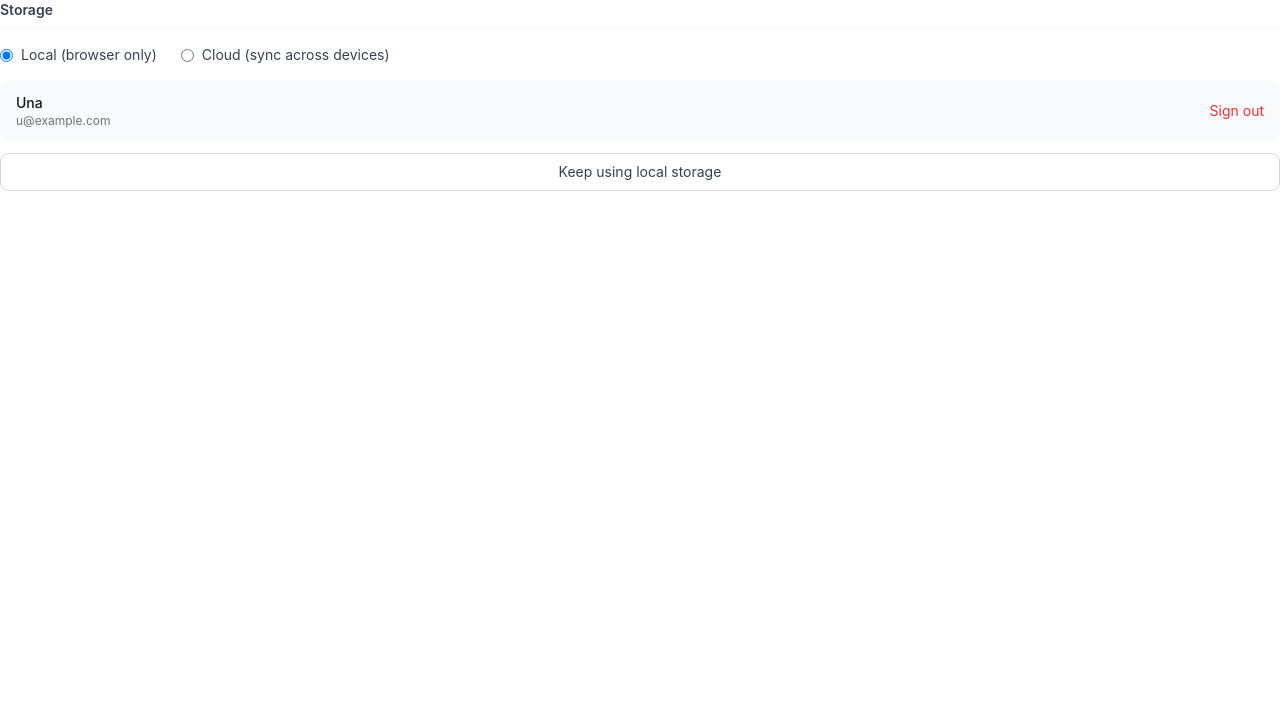
Test: the upload list (R-4) › recognition still counts every Local product: a ticked product sharing its origin with an unticked one is not taken for an earlier upload
Click the radio button labelled "Cloud (sync across devices)".
click(187, 55)  # box x1=181 y1=48 x2=194 y2=62
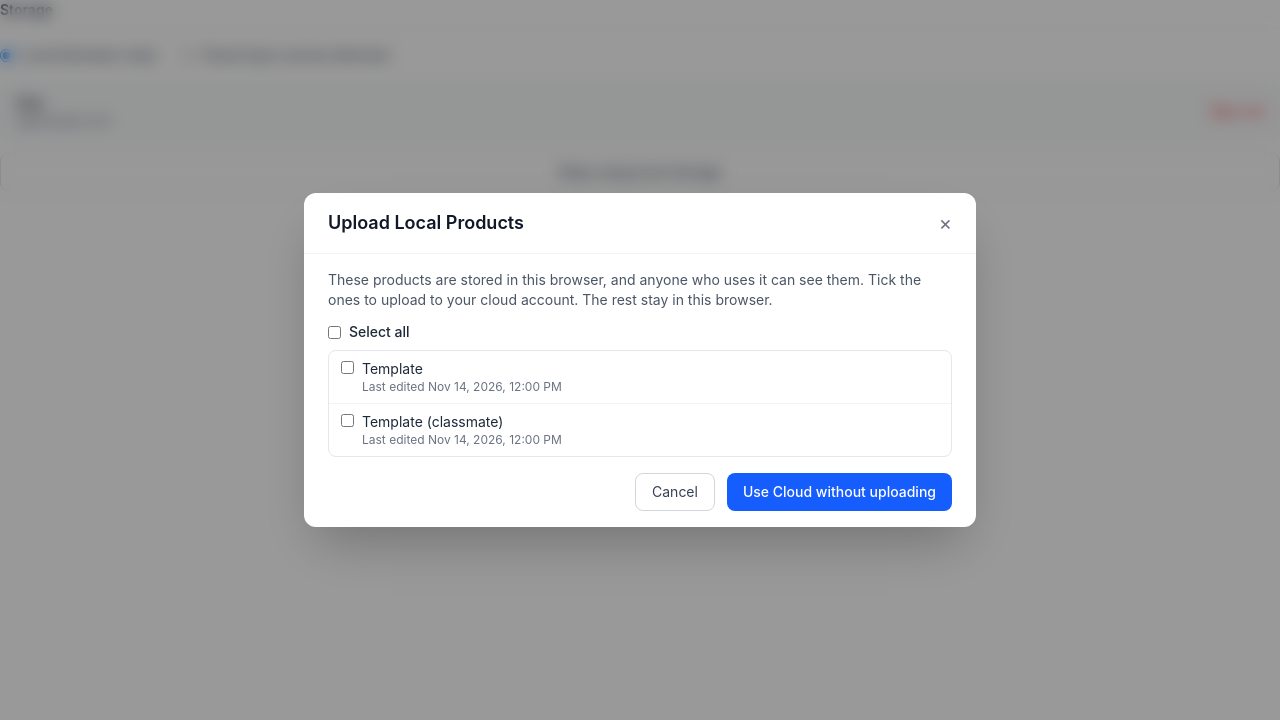
Click the checkbox labelled "Template Last edited Nov 14, 2026, 12:00 PM".
click(348, 368)  # box x1=341 y1=361 x2=354 y2=374
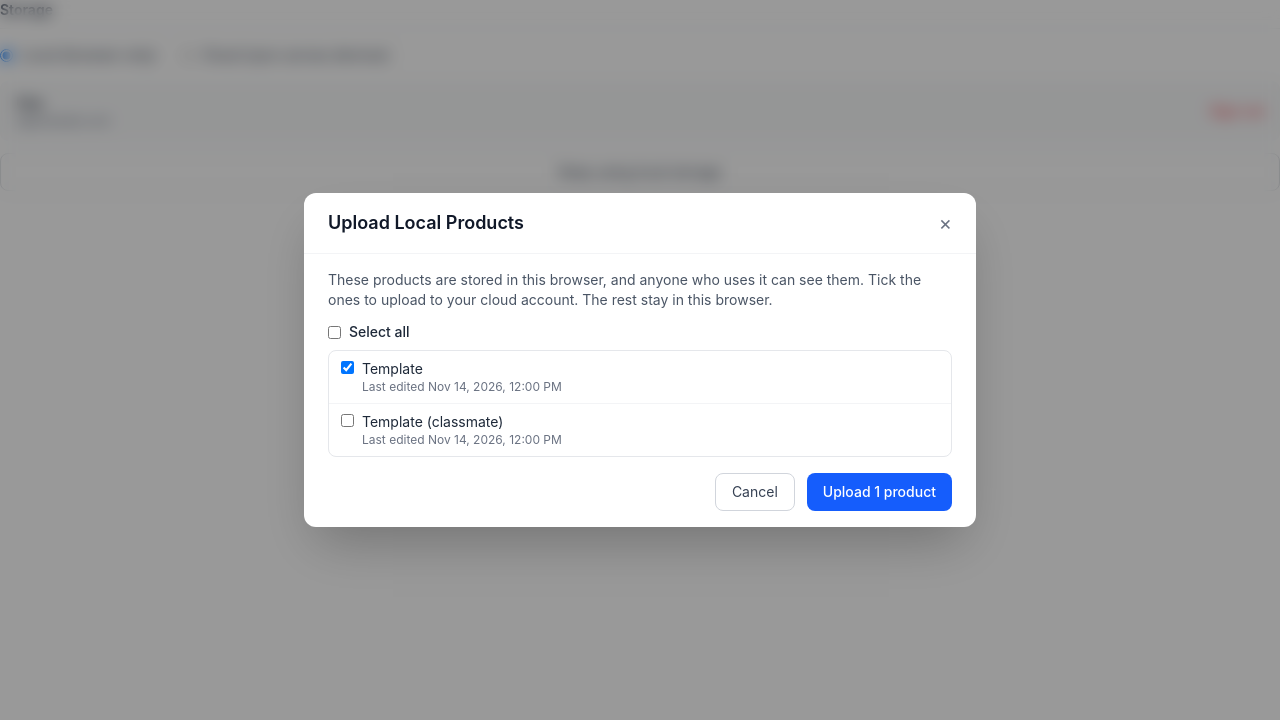
Click the button "Upload 1 product".
click(879, 492)  # box x1=807 y1=473 x2=952 y2=511
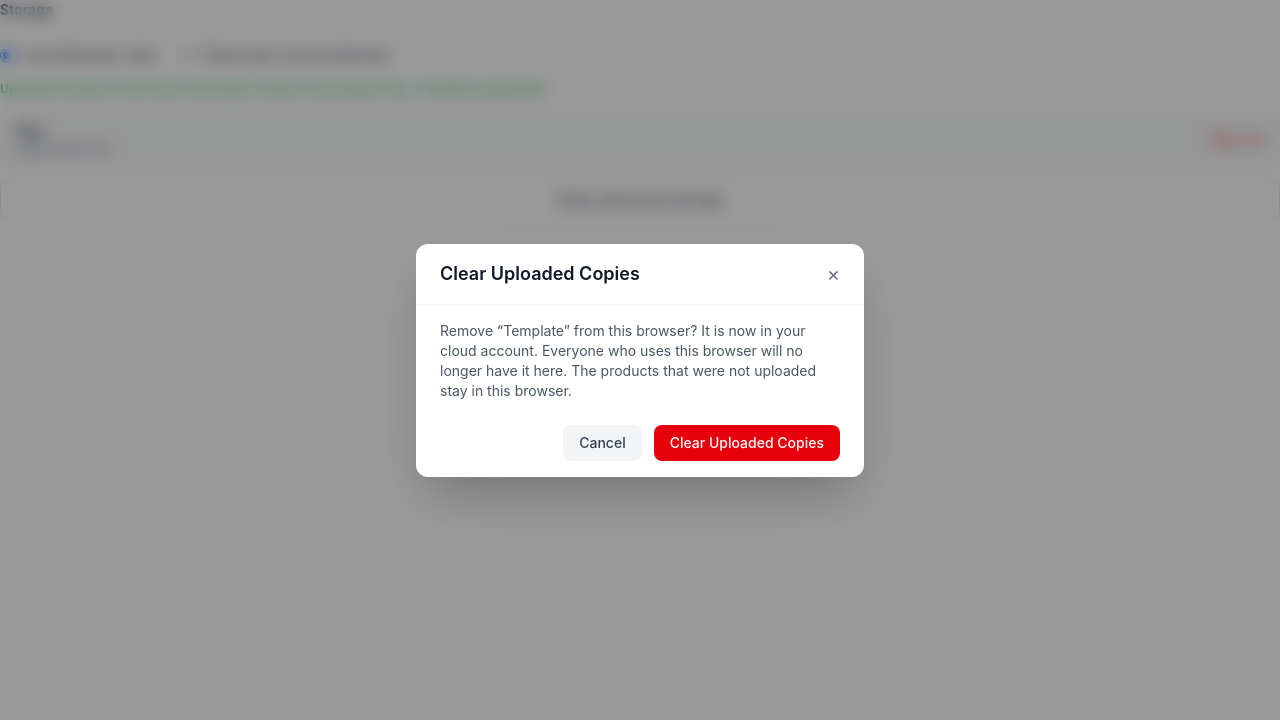
expect the text "Uploaded 1 product to the cloud. Not ticked, so kept in this browser only: “Template (classmate)”." is shown: met, box x1=0 y1=81 x2=549 y2=96
